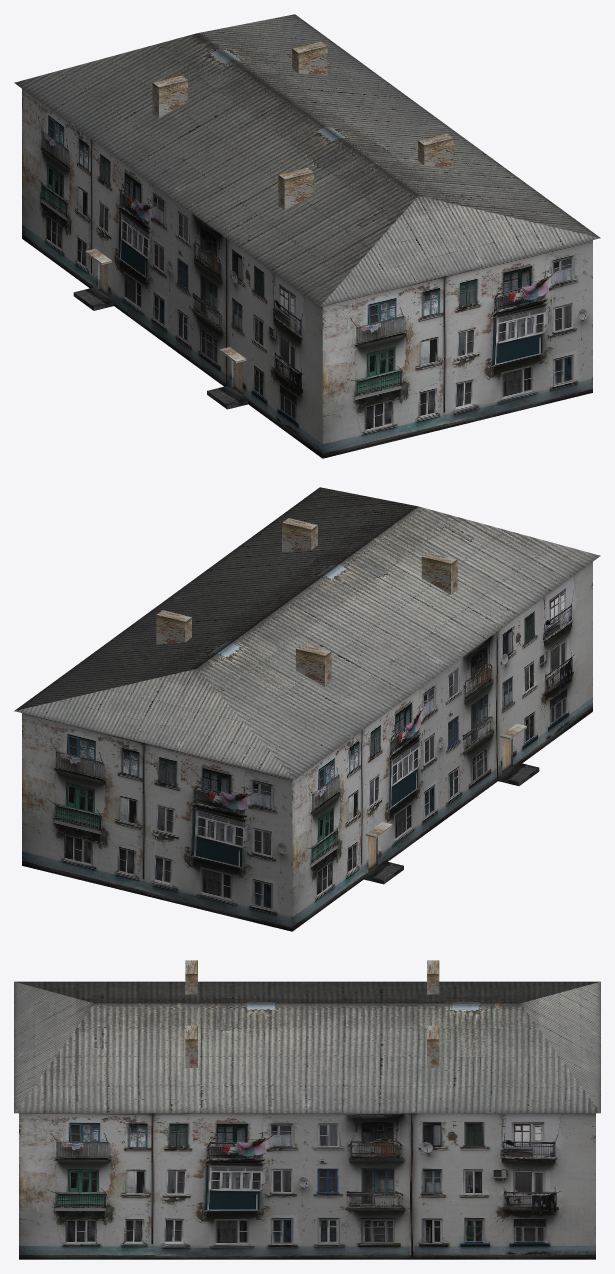
Rendered from d_dom_3et_5_steni.FBX.
3 views of the same model, one above another, from view 1: azimuth 30°, elevation 25°; view 2: azimuth 150°, elevation 25°; view 3: azimuth 270°, elevation 25° (orthographic). The views are drawn at different scales.
Parts seen in each view (by area): view 1: d_dom_3et_5_steni; view 2: d_dom_3et_5_steni; view 3: d_dom_3et_5_steni.
Part boxes in pixels (x1=…): d_dom_3et_5_steni: x1=14, y1=14, x2=600, y2=458; d_dom_3et_5_steni: x1=14, y1=487, x2=600, y2=931; d_dom_3et_5_steni: x1=14, y1=960, x2=600, y2=1259.
Bounding box in the file's own units: 18.76 × 33.52 × 12.35.
